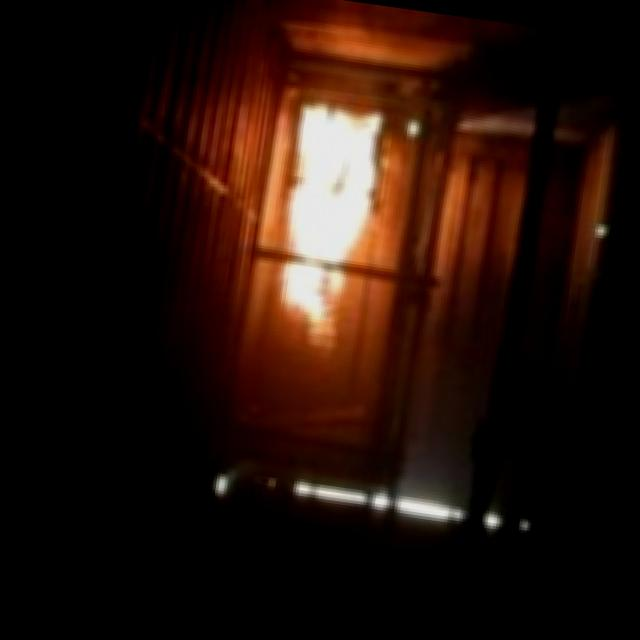fire: (249, 86, 398, 359)
